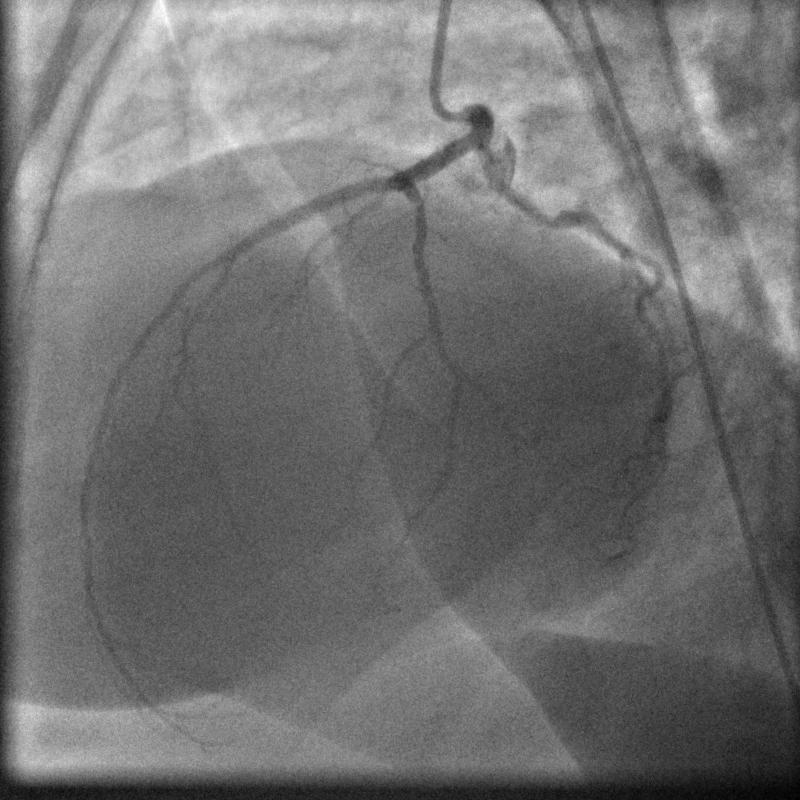Stenosis: (525, 188, 565, 241)
